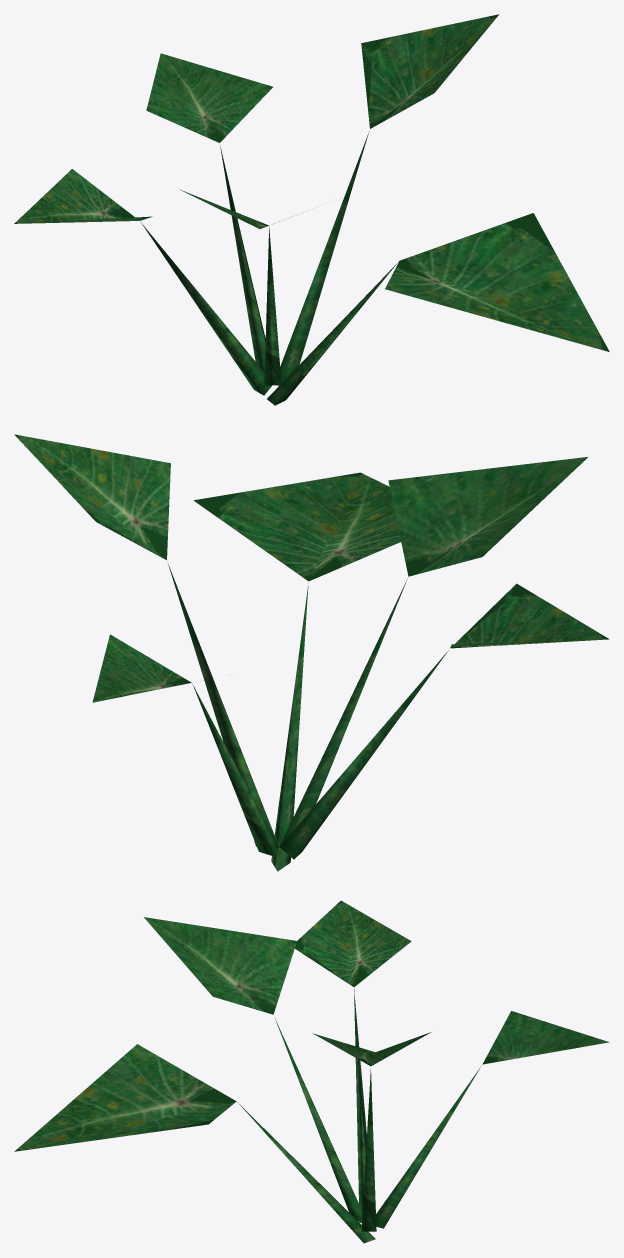
Rendered from leaf_giantpalm_med_l3.fbx.
3 views of the same model, one above another, from view 1: azimuth 30°, elevation 25°; view 2: azimuth 150°, elevation 25°; view 3: azimuth 270°, elevation 25° (orthographic). The views are drawn at different scales.
Visible parts, largest first — view 1: mesh_node; view 2: mesh_node; view 3: mesh_node.
Part boxes in pixels (box(x1,y1,x2,y2)): mesh_node: box(14, 14, 609, 405); mesh_node: box(14, 434, 609, 871); mesh_node: box(14, 900, 609, 1243).
Size of the model in its own units: 2.97 by 1.84 by 3.49.
